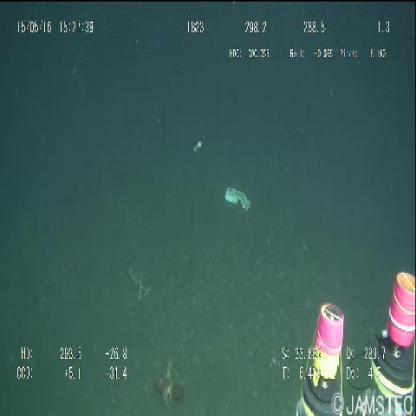Rác: (219, 178, 257, 224)
